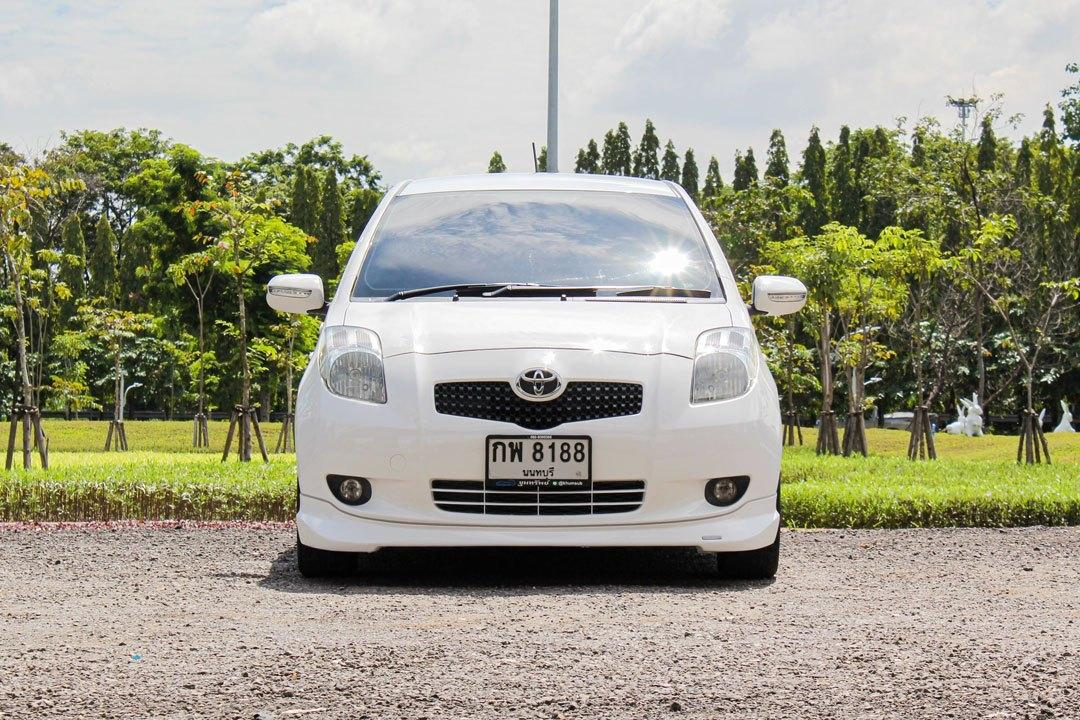license-plate: (479, 426, 595, 497)
